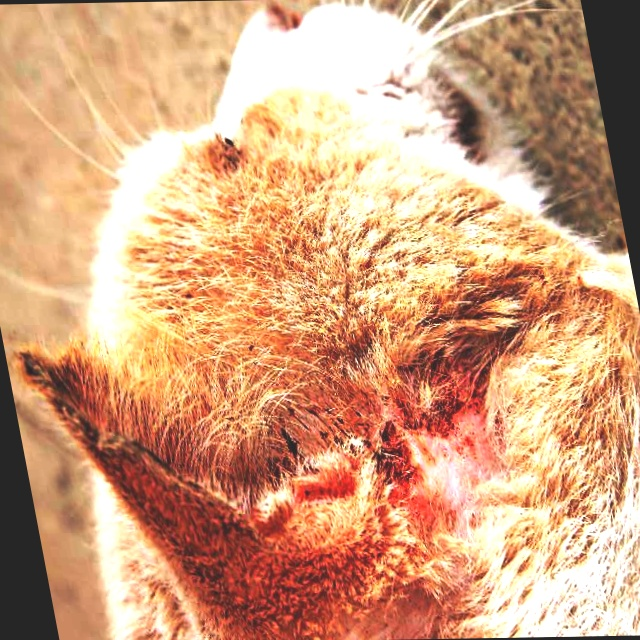ringworm: (267, 352, 529, 498)
